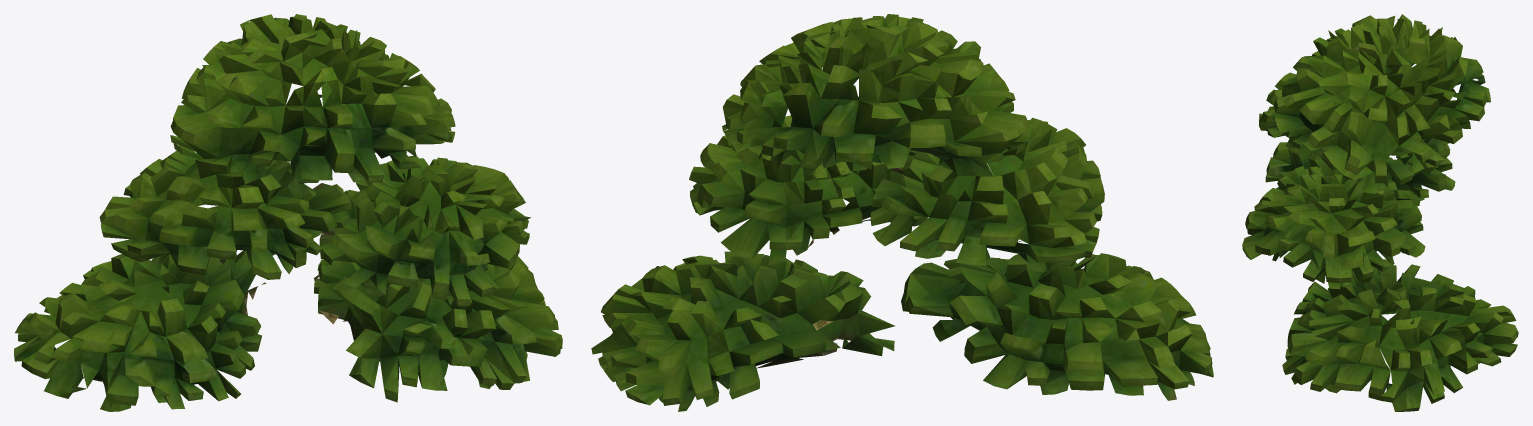
File: leaf_wi.glb
3 renders of one model, left to right at view 1: azimuth 30°, elevation 25°; view 2: azimuth 150°, elevation 25°; view 3: azimuth 270°, elevation 25°, orthographic. The views are drawn at different scales.
Visible parts, largest first — view 1: geometry_0; view 2: geometry_0; view 3: geometry_0.
Boxes of the visible parts, <box> form: geometry_0: <box>14,14,562,411</box>; geometry_0: <box>591,14,1213,411</box>; geometry_0: <box>1242,14,1518,411</box>.
Bounding box in the file's own units: 0.3977 × 0.256 × 0.2185.
Materials: 1 (1 with a texture image).
